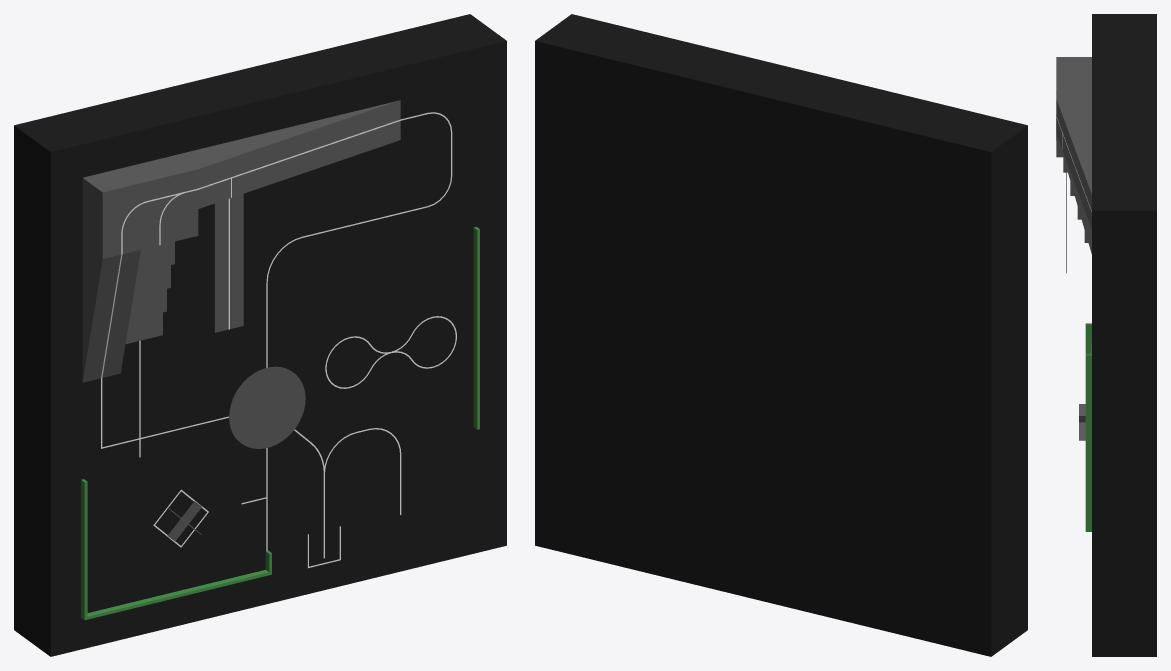
Rendered from map.obj.
3 views of the same model, side by side, from view 1: azimuth 30°, elevation 25°; view 2: azimuth 150°, elevation 25°; view 3: azimuth 270°, elevation 25° (orthographic). The views are drawn at different scales.
Visible parts, largest first — view 1: ground, big_ramp, block, small_ramp, roundabout, seesaw, planks_luggages, plank_8, stair_4, stair_3, stair_2, stair_1 (+1 smaller); view 2: ground; view 3: ground, big_ramp, block, plank_8, cross, planks_luggages.
Boxes of the visible parts, x1,y1,x2,y2 form: ground: (14, 14, 506, 656); big_ramp: (178, 100, 400, 208); block: (82, 154, 198, 258); small_ramp: (82, 245, 140, 382); roundabout: (229, 366, 305, 448); seesaw: (214, 194, 243, 332); planks_luggages: (81, 479, 271, 620); plank_8: (473, 227, 479, 429); stair_4: (137, 241, 174, 273); stair_3: (133, 265, 170, 296); stair_2: (129, 289, 166, 320); stair_1: (125, 312, 162, 343); ground: (535, 14, 1027, 656); ground: (1092, 14, 1156, 656); big_ramp: (1056, 98, 1091, 228); block: (1056, 57, 1091, 157); plank_8: (1085, 354, 1091, 531); cross: (1079, 404, 1085, 440); planks_luggages: (1085, 323, 1091, 354).
Size of the model in its own units: 717 by 758 by 155.
